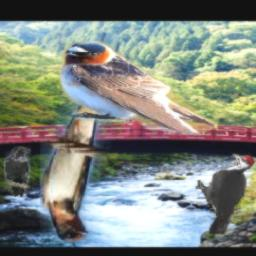Crow: (5, 147, 32, 198)
Swallow: (41, 33, 121, 243), (59, 41, 219, 136)
Woodpecker: (194, 153, 255, 234)
